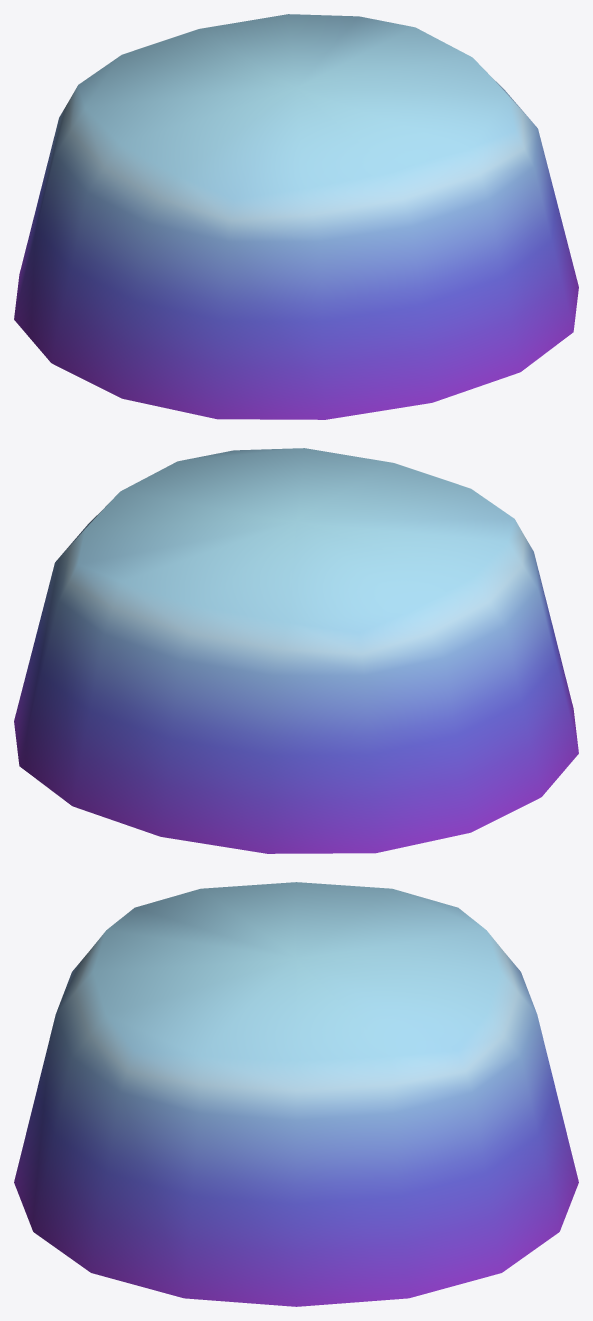
Rendered from Rocks_4.fbx.
3 renders of one model, top to bottom at view 1: azimuth 30°, elevation 25°; view 2: azimuth 150°, elevation 25°; view 3: azimuth 270°, elevation 25°, orthographic. The views are drawn at different scales.
Parts seen in each view (by area): view 1: Rocks_3.001; view 2: Rocks_3.001; view 3: Rocks_3.001.
Part boxes in pixels (x1,y1,x2,y2): Rocks_3.001: (14,14,578,419); Rocks_3.001: (14,448,578,853); Rocks_3.001: (14,882,578,1306).
Bounding box in the file's own units: 0.1801 × 0.4288 × 0.4116.
